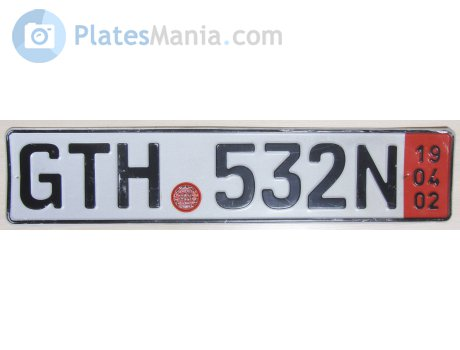License Plates: (16, 142, 403, 206)
